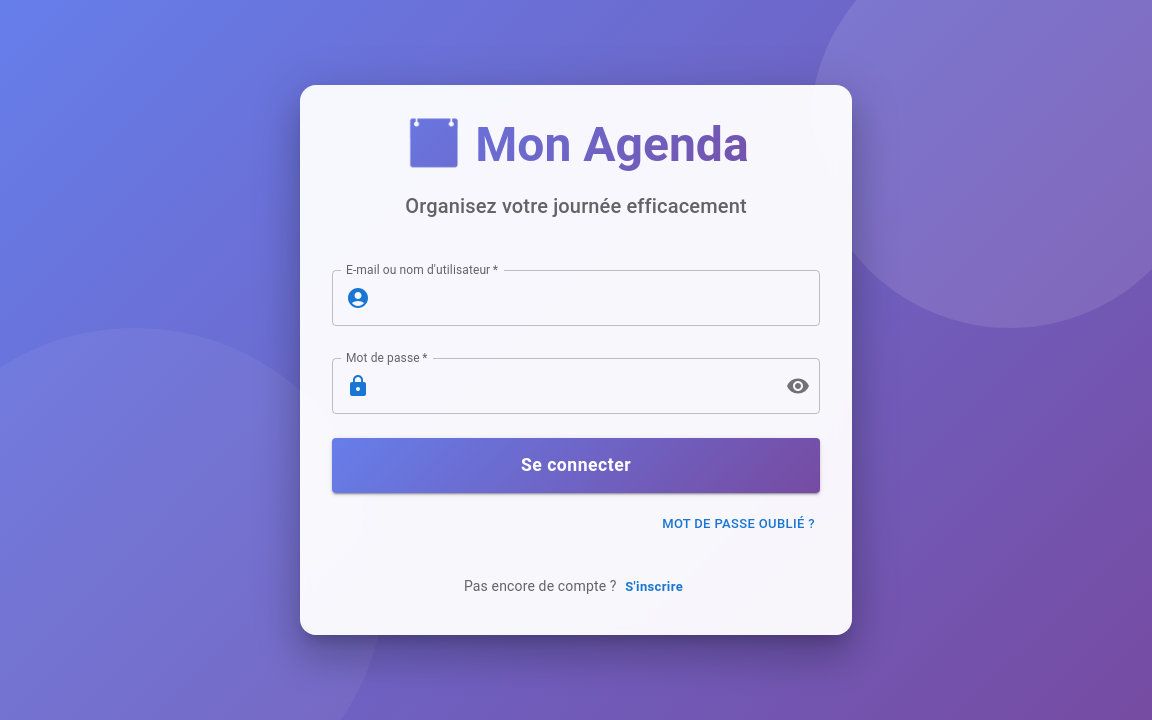
displays an error when login is rejected
Type "alice" into the field labelled "E-mail ou nom d'utilisateur *" at (599, 298), box [378,270,820,326]
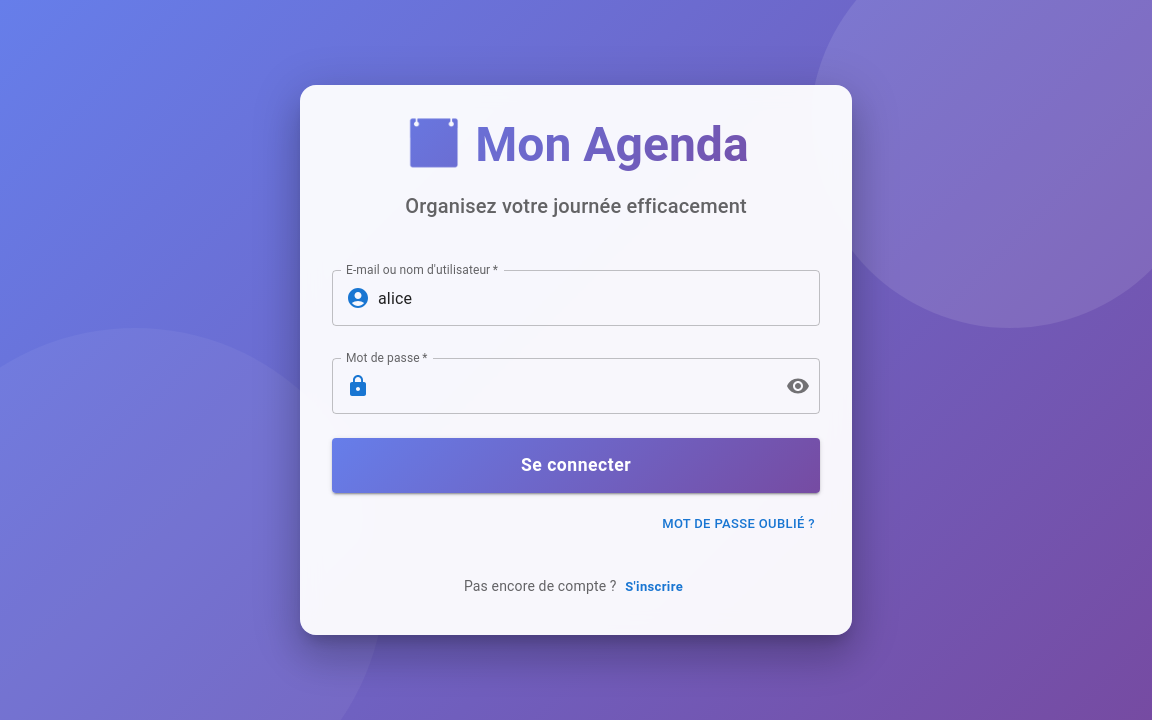
Type "wrong-password" into the password field labelled "Mot de passe *" at (574, 386), box [378,358,770,414]
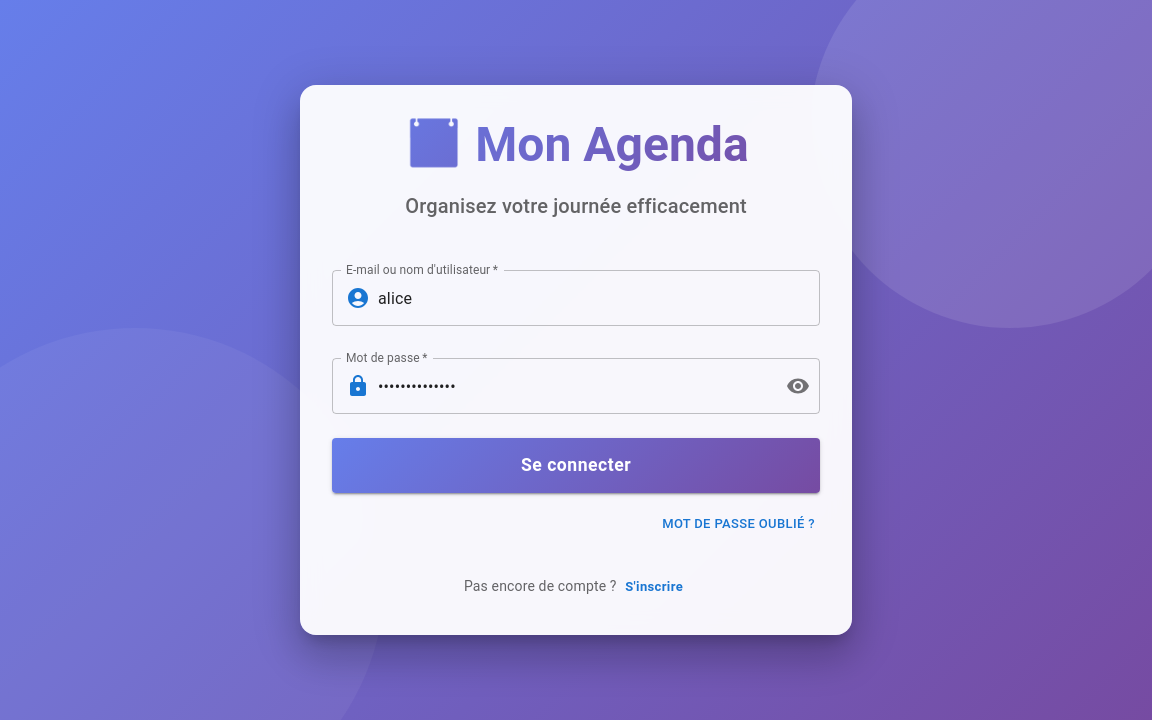
Click the button "Se connecter" at (576, 466), box [332,438,820,493]
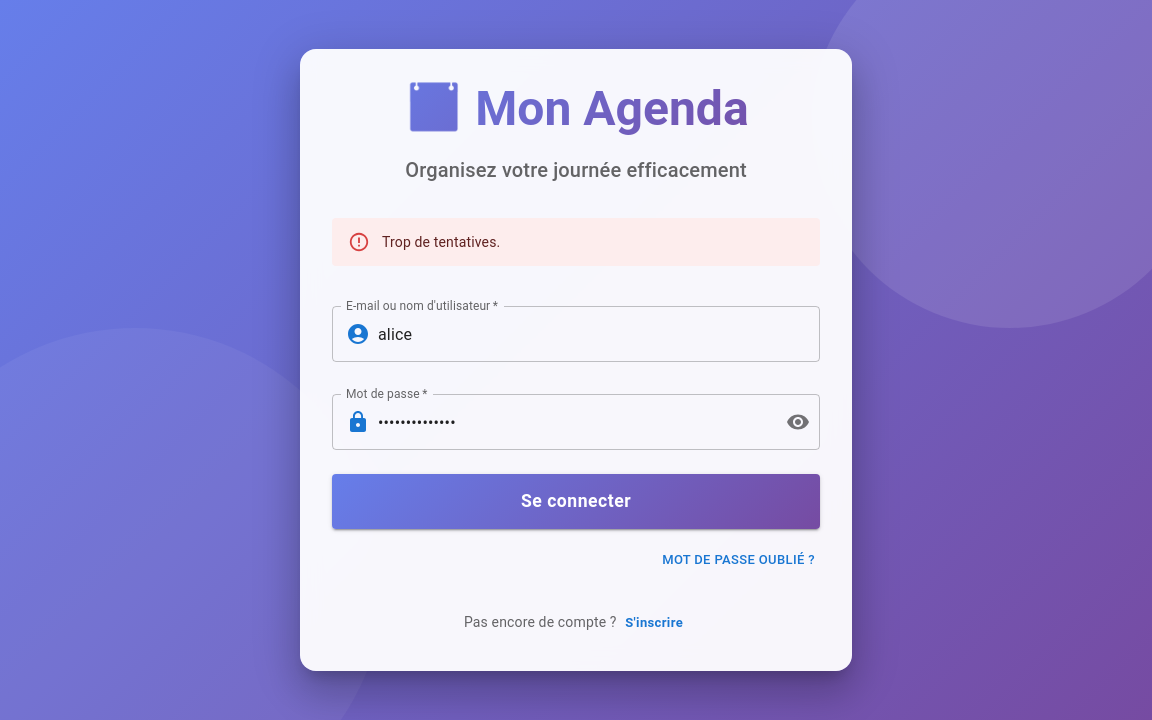
Now the text "Trop de tentatives." is shown, box [382,234,500,250]
